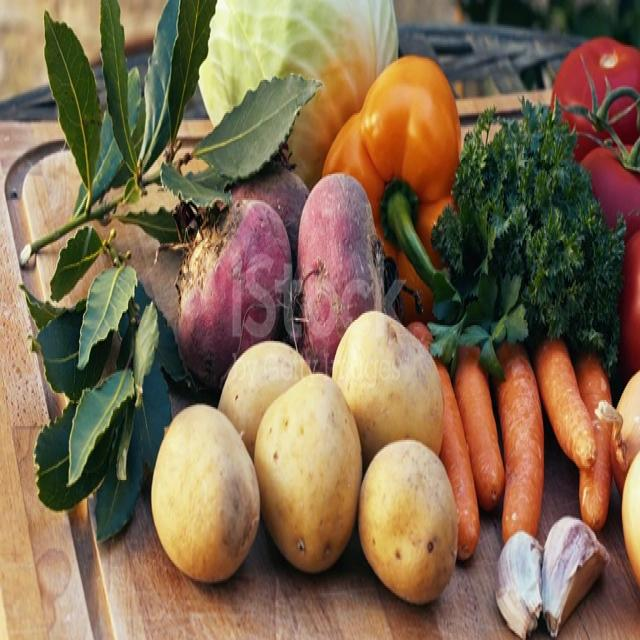carrot: (494, 341, 544, 542), (437, 361, 480, 560), (454, 346, 505, 511), (535, 339, 596, 470), (575, 352, 612, 529)
potato: (254, 374, 362, 573), (151, 404, 260, 582), (332, 311, 444, 466), (360, 439, 458, 603), (219, 341, 311, 455)
tomato: (554, 39, 640, 140), (581, 148, 640, 240), (557, 99, 618, 163)
